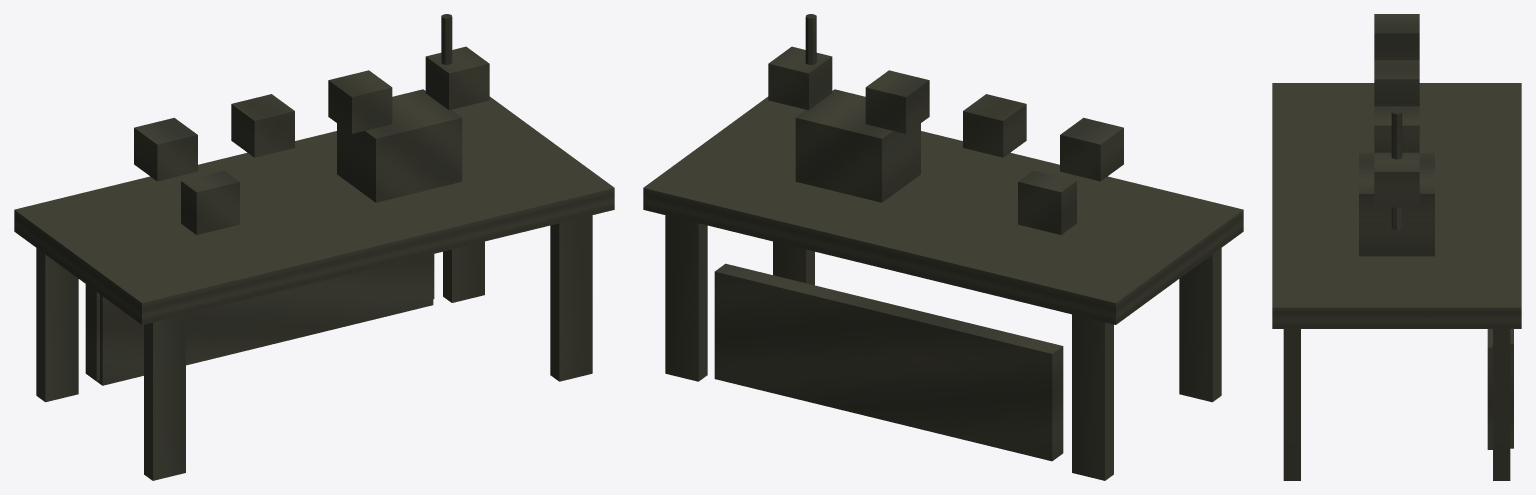
The model's file is prop_workbench_tools_a.glb.
3 renders of one model, left to right at view 1: azimuth 30°, elevation 25°; view 2: azimuth 150°, elevation 25°; view 3: azimuth 270°, elevation 25°, orthographic. The views are drawn at different scales.
Visible parts, largest first — view 1: prop_workbench_tools_a; view 2: prop_workbench_tools_a; view 3: prop_workbench_tools_a.
Part boxes in pixels (box(x1,y1,x2,y2)): prop_workbench_tools_a: box(14, 14, 614, 480); prop_workbench_tools_a: box(643, 14, 1243, 480); prop_workbench_tools_a: box(1272, 14, 1521, 480).
Bounding box in the file's own units: 1.75 × 1.19 × 0.82.
Materials: 1 (1 with a texture image).
